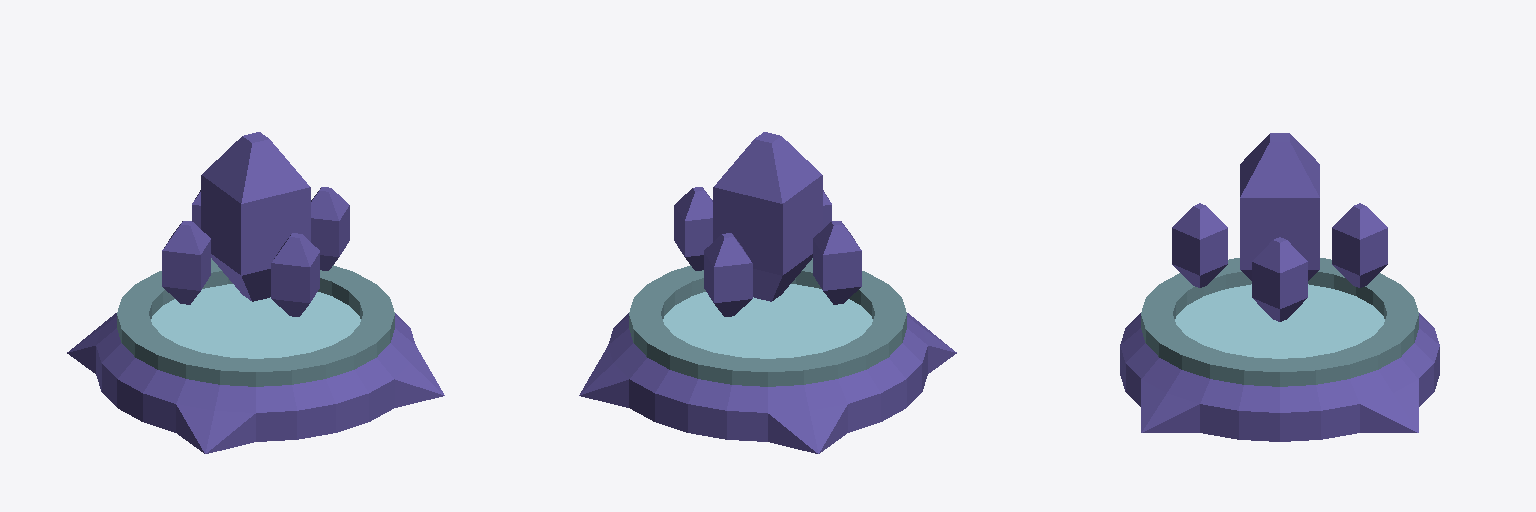
Rendered from Poison_Turret.obj.
3 renders of one model, left to right at view 1: azimuth 30°, elevation 25°; view 2: azimuth 150°, elevation 25°; view 3: azimuth 270°, elevation 25°, orthographic.
Visible parts, largest first — view 1: Poison_Turret; view 2: Poison_Turret; view 3: Poison_Turret.
Boxes of the visible parts, <box> form: Poison_Turret: <box>67,132,444,453</box>; Poison_Turret: <box>579,132,956,453</box>; Poison_Turret: <box>1120,133,1439,441</box>.
Bounding box in the file's own units: 1 × 0.8175 × 1.